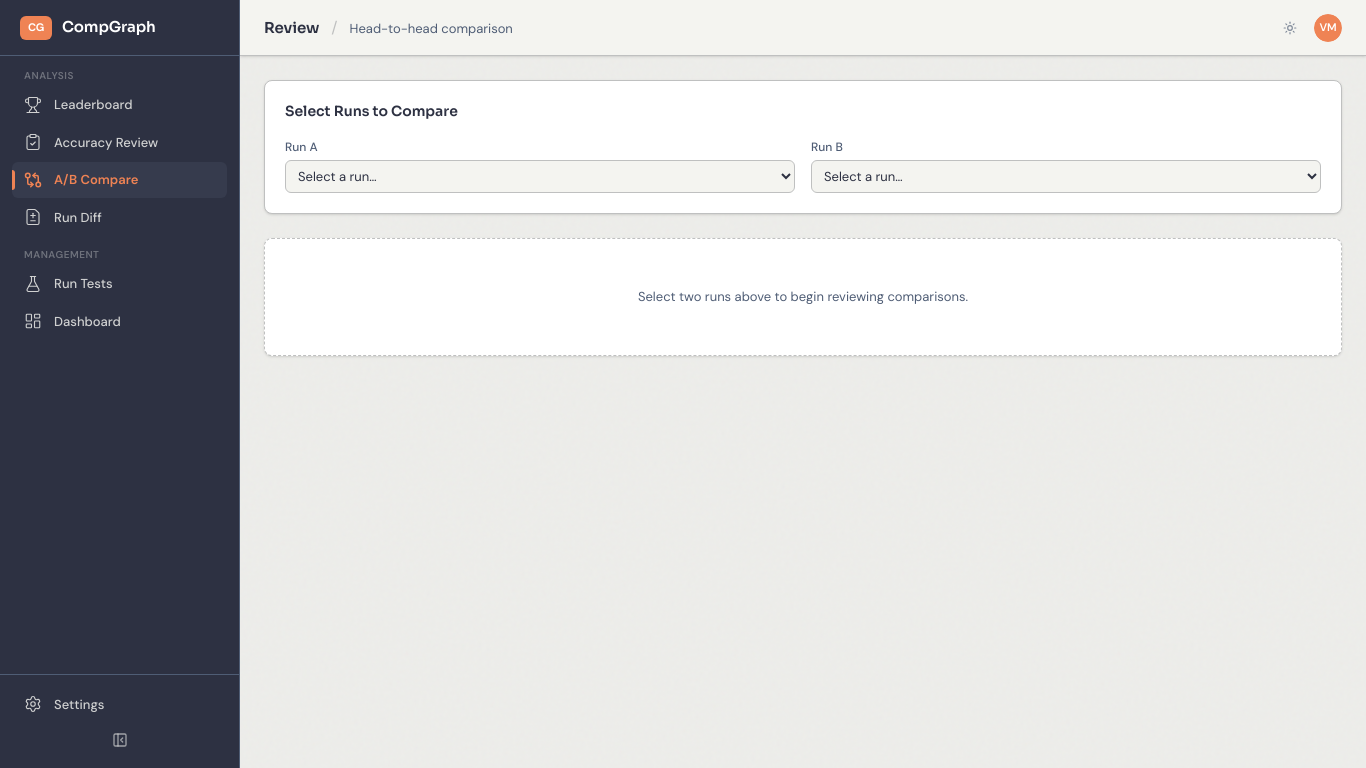
Test: ReviewPage › keyboard shortcuts › shows hotkey legend after runs are selected
The width and height of the screenshot is (1366, 768).
Select "deepseek-v3 / pass1_v1 · Pass 1 · #1" in the dropdown labelled "Run A" at x=540, y=176, box [285,160,795,193]
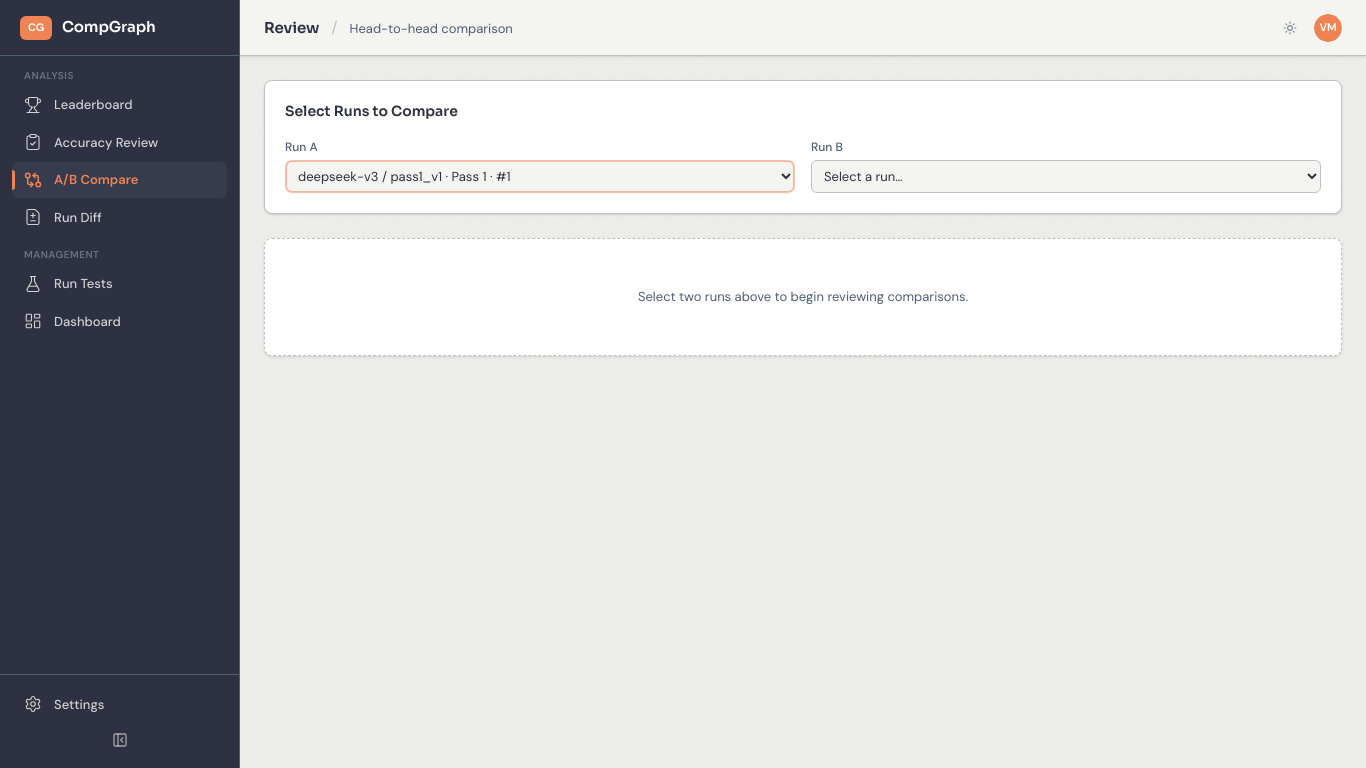
Select "gpt-4.1-mini / pass1_v1 · Pass 1 · #2" in the dropdown labelled "Run B" at x=1066, y=176, box [811,160,1321,193]
(page scrolled)
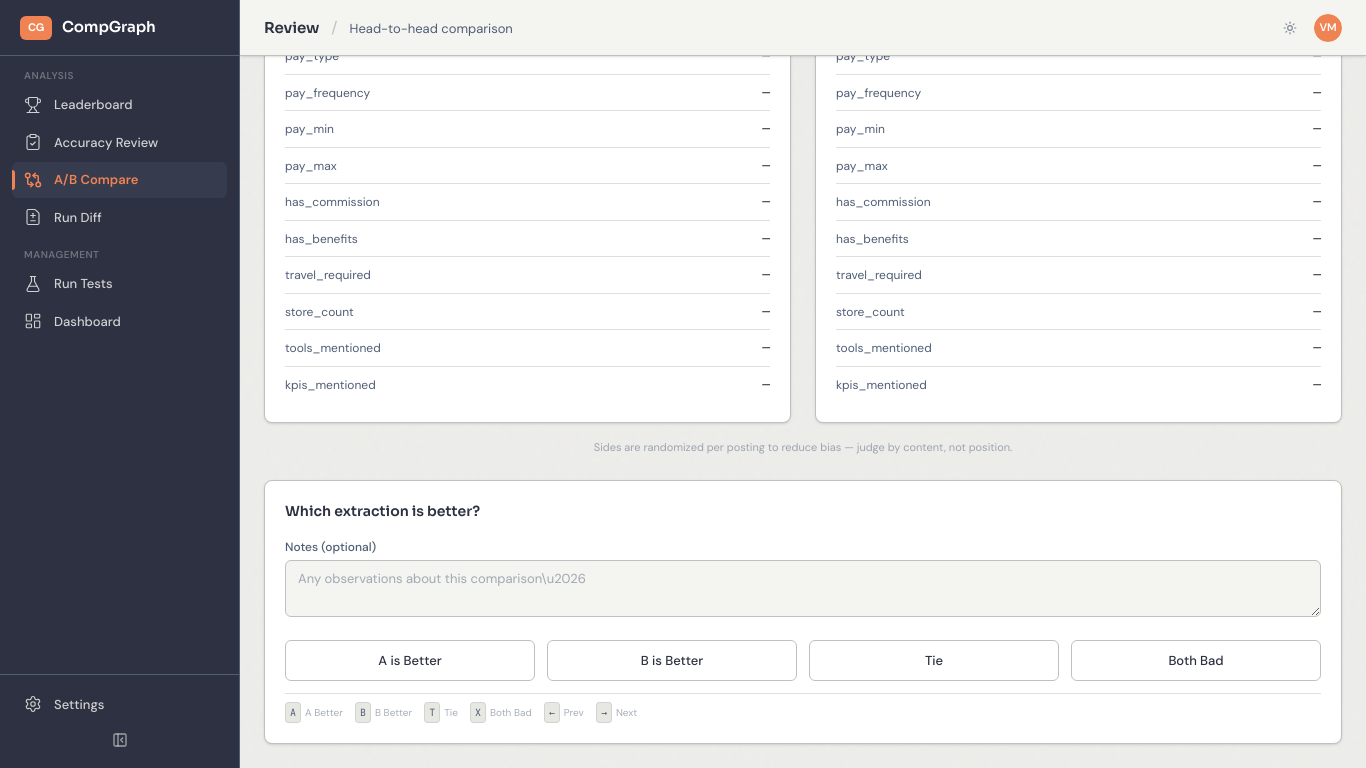
Expected: the text "A Better" is shown, [305,706,343,719]
Expected: the text "B Better" is shown, [375,706,412,719]
